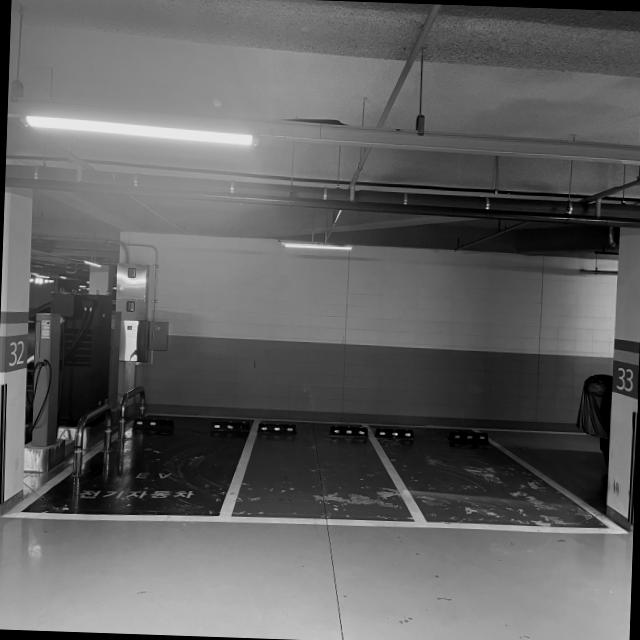free: (372, 422, 632, 532), (213, 415, 436, 533)
